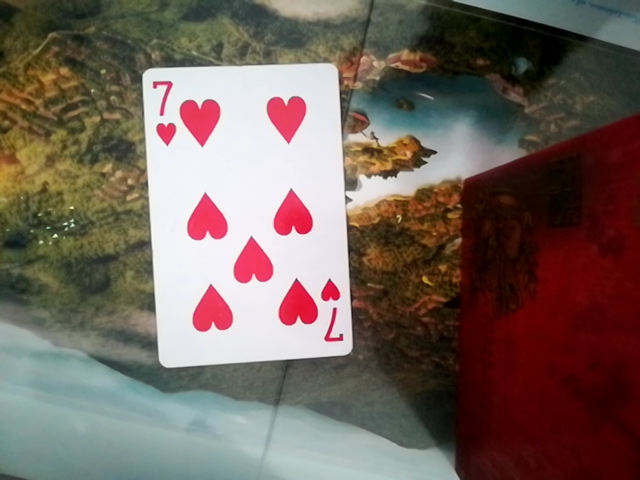hx 7: (137, 55, 357, 368)
